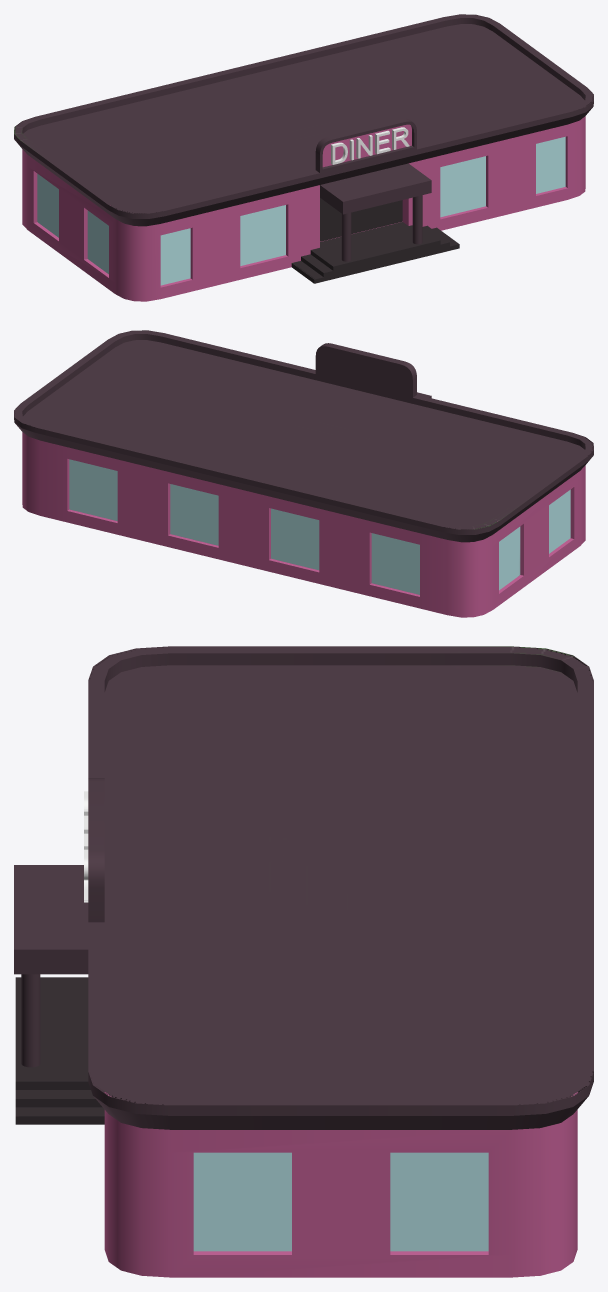
File: DinerFBX.FBX
3 views of the same model, one above another, from view 1: azimuth 30°, elevation 25°; view 2: azimuth 150°, elevation 25°; view 3: azimuth 270°, elevation 25° (orthographic). The views are drawn at different scales.
Parts seen in each view (by area): view 1: Box001; view 2: Box001; view 3: Box001.
Boxes of the visible parts, <box> form: Box001: <box>14,14,593,301</box>; Box001: <box>14,330,593,617</box>; Box001: <box>14,646,593,1277</box>.
Size of the model in its own units: 132 by 70.75 by 32.13.
Materials: 1 (1 with a texture image).
